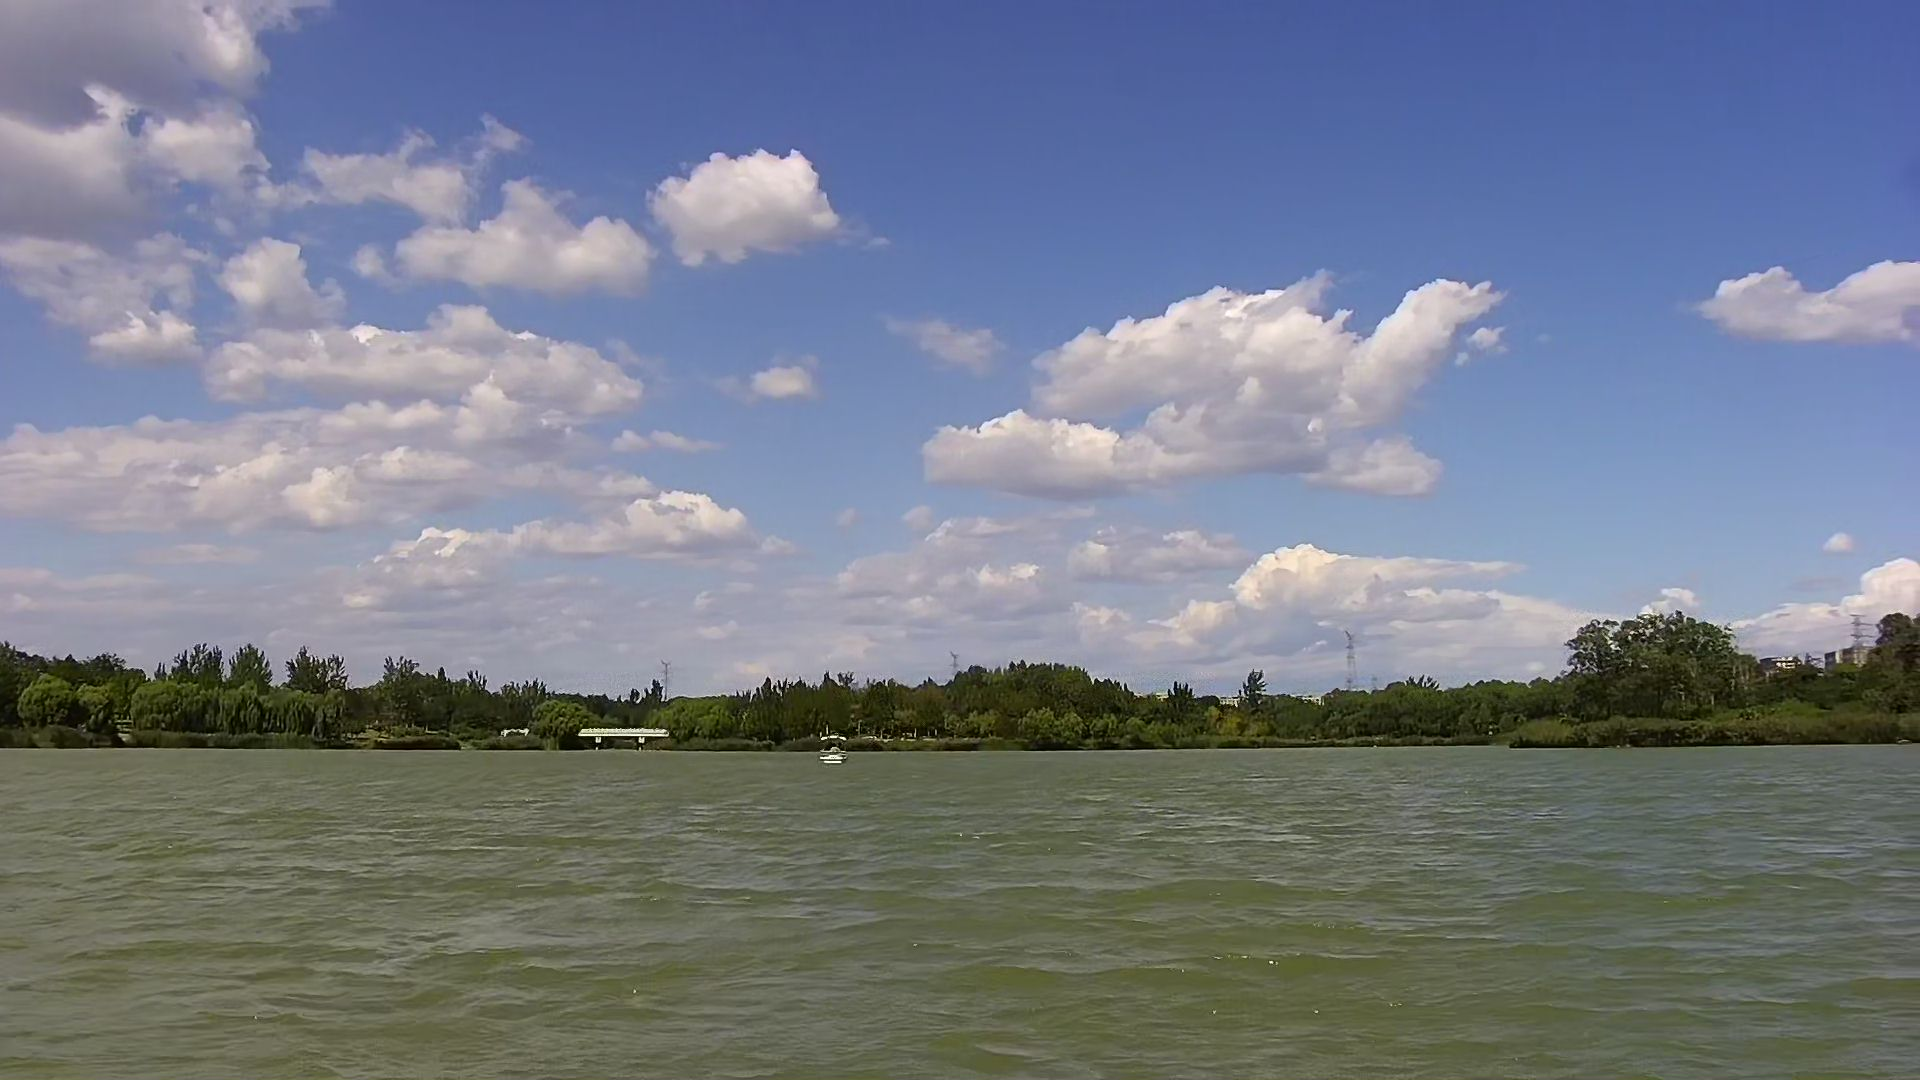boat: (811, 728, 853, 774)
bridge: (567, 716, 675, 754)
